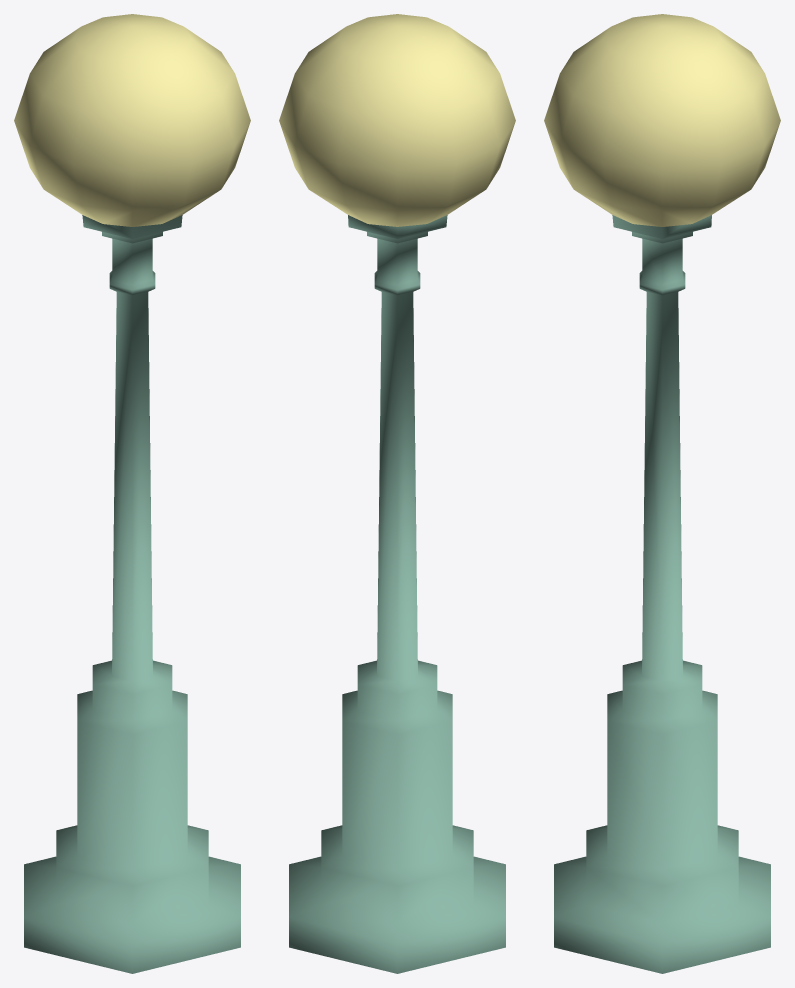
Rendered from Lamp_Unwrapped.fbx.
3 renders of one model, left to right at view 1: azimuth 30°, elevation 25°; view 2: azimuth 150°, elevation 25°; view 3: azimuth 270°, elevation 25°, orthographic.
Parts seen in each view (by area): view 1: lamp; view 2: lamp; view 3: lamp.
Boxes of the visible parts, bbox=[...] form: lamp: bbox=[14, 14, 250, 973]; lamp: bbox=[279, 14, 515, 973]; lamp: bbox=[544, 14, 780, 973].
Bounding box in the file's own units: 33.65 × 132 × 31.78.
